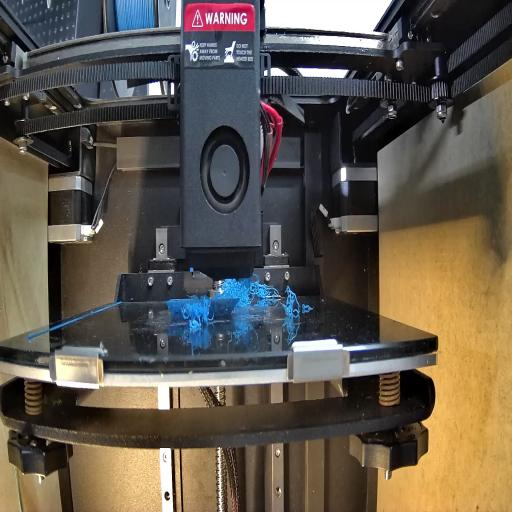spaghetti: (219, 278, 278, 304), (182, 294, 214, 328), (276, 285, 302, 320)
